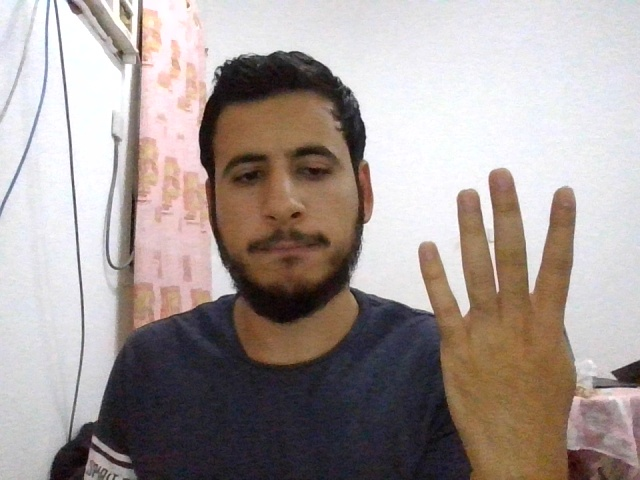Four: (418, 168, 582, 477)
